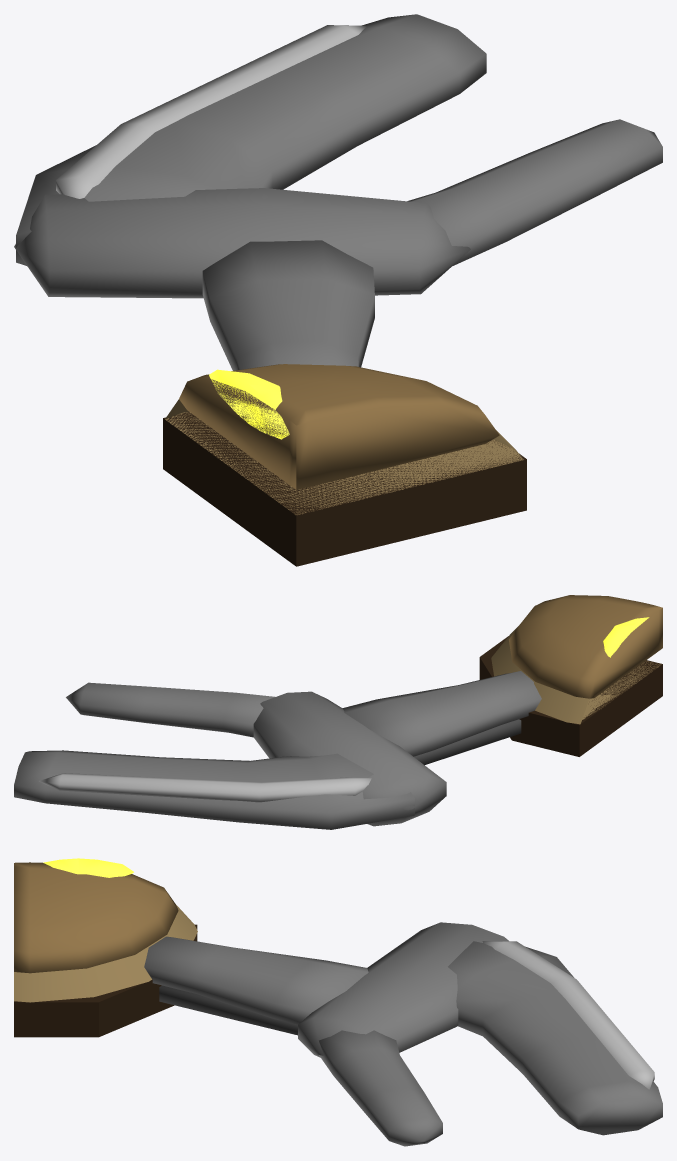
Rendered from newsh-hash-3-f4.glb.
The picture shows the model from 3 angles, top to bottom: view 1: azimuth 30°, elevation 25°; view 2: azimuth 150°, elevation 25°; view 3: azimuth 270°, elevation 25°; orthographic projection. The views are drawn at different scales.
Visible parts, largest first — view 1: newsh-hash-3-f4; view 2: newsh-hash-3-f4; view 3: newsh-hash-3-f4.
Part boxes in pixels (x1,y1,x2,y2): newsh-hash-3-f4: (14, 14, 662, 566); newsh-hash-3-f4: (14, 595, 662, 829); newsh-hash-3-f4: (14, 858, 662, 1146).
Size of the model in its own units: 1.34 by 0.289 by 1.68.
